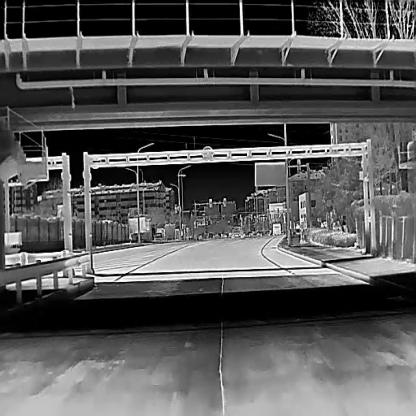car: (153, 231, 163, 240), (255, 230, 262, 236)
truck: (127, 215, 152, 242), (230, 225, 243, 238), (272, 221, 280, 236)
